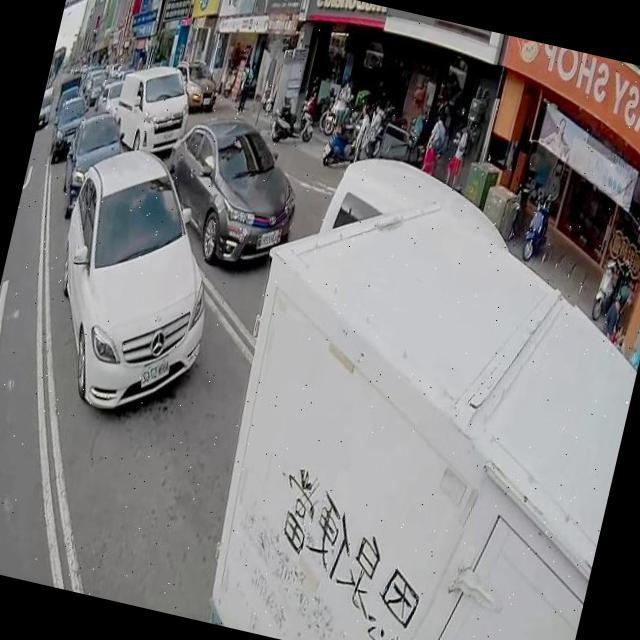person: (419, 110, 452, 178), (345, 100, 377, 168), (443, 114, 472, 188), (602, 282, 632, 342), (330, 76, 358, 136), (364, 105, 389, 159), (236, 60, 256, 115), (433, 94, 452, 125)
